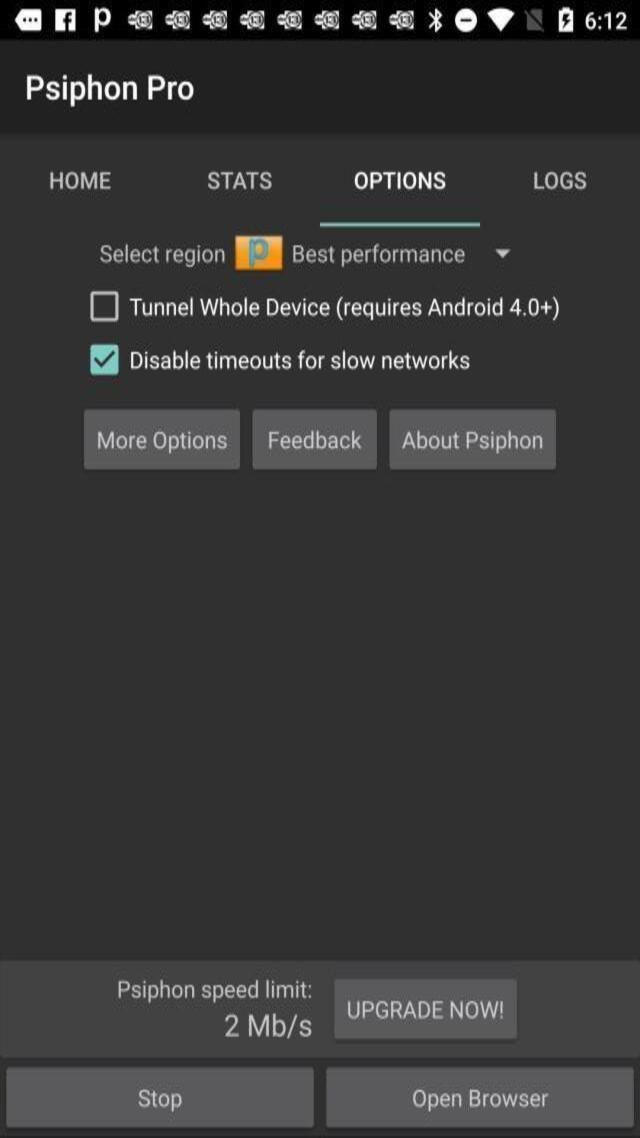CheckedTextView: (89, 344, 121, 376), (89, 291, 119, 322)
Icon: (486, 5, 518, 34), (310, 7, 342, 34), (14, 8, 42, 37), (386, 7, 416, 34), (162, 7, 192, 33), (486, 238, 516, 264), (126, 7, 156, 32), (200, 6, 230, 31), (273, 8, 303, 33), (553, 5, 577, 34), (348, 8, 379, 30), (454, 8, 478, 36), (238, 9, 267, 32), (426, 8, 446, 36), (92, 7, 112, 35), (54, 9, 78, 32)
Text: (126, 291, 570, 326), (86, 238, 474, 274), (128, 346, 482, 378), (16, 68, 205, 110), (106, 970, 323, 1004), (406, 1083, 560, 1116), (344, 996, 511, 1026), (401, 426, 547, 456), (216, 1009, 320, 1045), (94, 428, 230, 454), (124, 1079, 197, 1116), (266, 426, 366, 452), (354, 167, 446, 192), (44, 171, 114, 193), (206, 171, 275, 190), (532, 170, 586, 192)
TextButton: (2, 963, 640, 1061), (7, 1066, 312, 1130), (330, 1066, 638, 1128), (388, 406, 556, 468), (82, 406, 242, 470), (254, 406, 380, 471), (346, 162, 456, 200), (39, 159, 120, 201), (200, 164, 283, 198), (524, 165, 590, 199)
